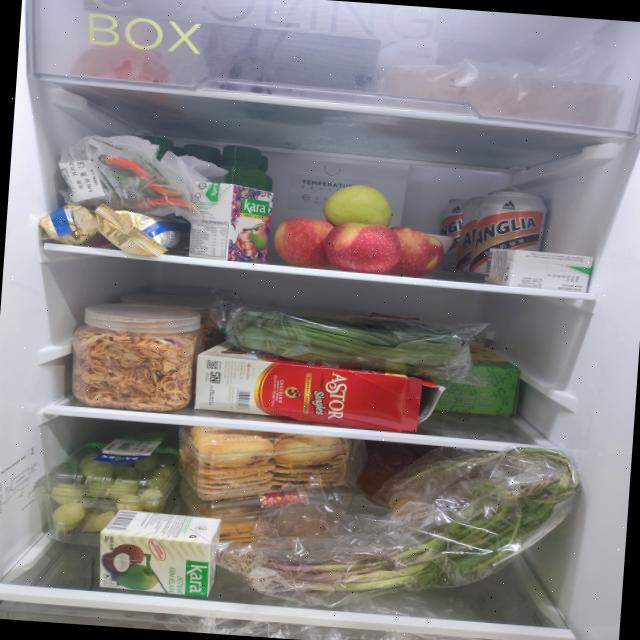apple: (272, 179, 448, 278)
chili: (97, 155, 197, 213)
coconut_milk: (95, 507, 222, 598), (188, 180, 274, 264)
grape: (31, 425, 185, 552)
leafy_greens: (234, 308, 474, 380)
spring_onion: (220, 424, 583, 608)
